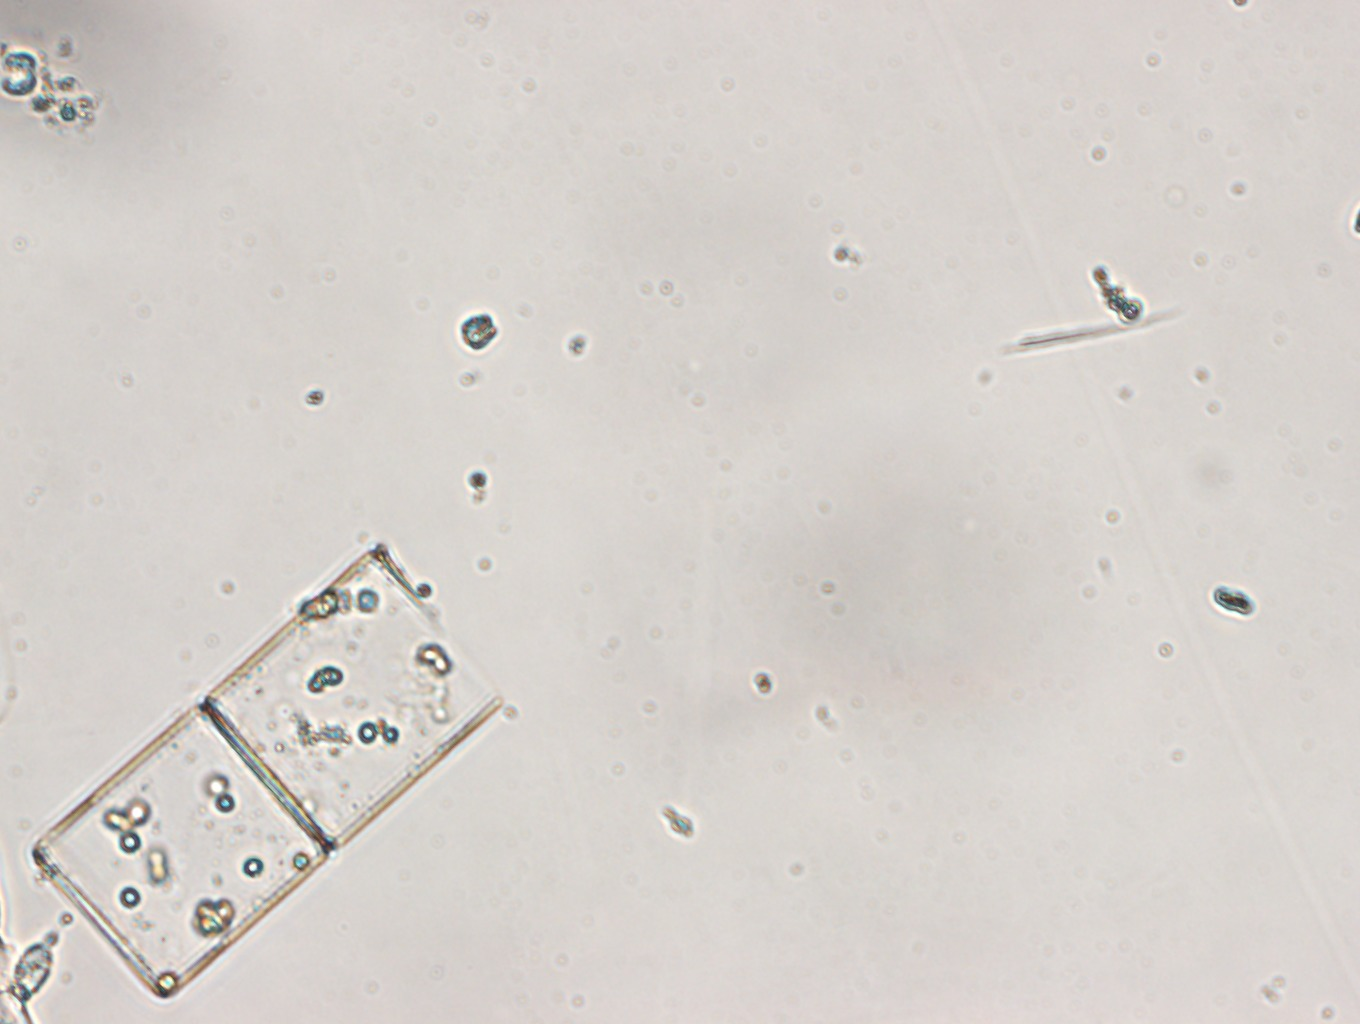guinardia flaccida: (32, 547, 502, 997)
